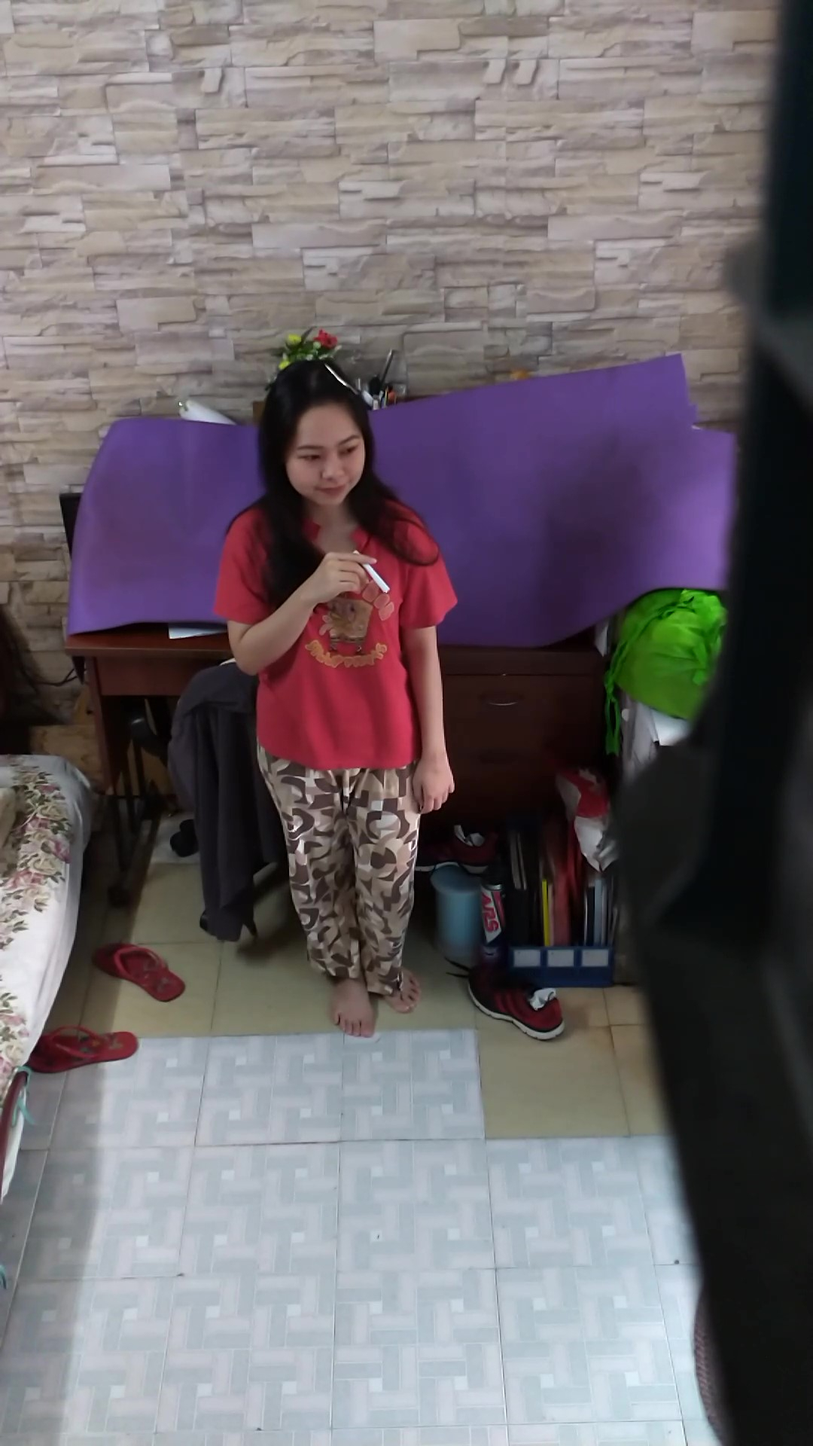cigarette: (360, 560, 394, 599)
person: (221, 339, 459, 1029)
